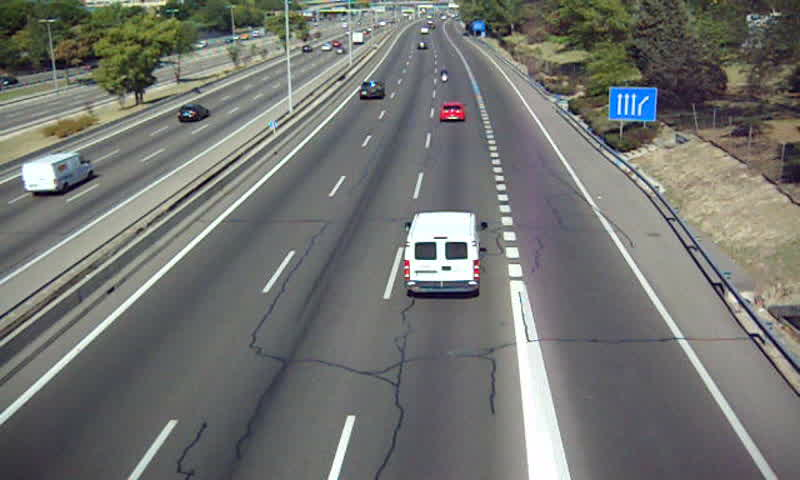car: (357, 79, 384, 98), (439, 103, 466, 122)
motorcycle: (438, 67, 451, 81)
van: (404, 211, 481, 295)
